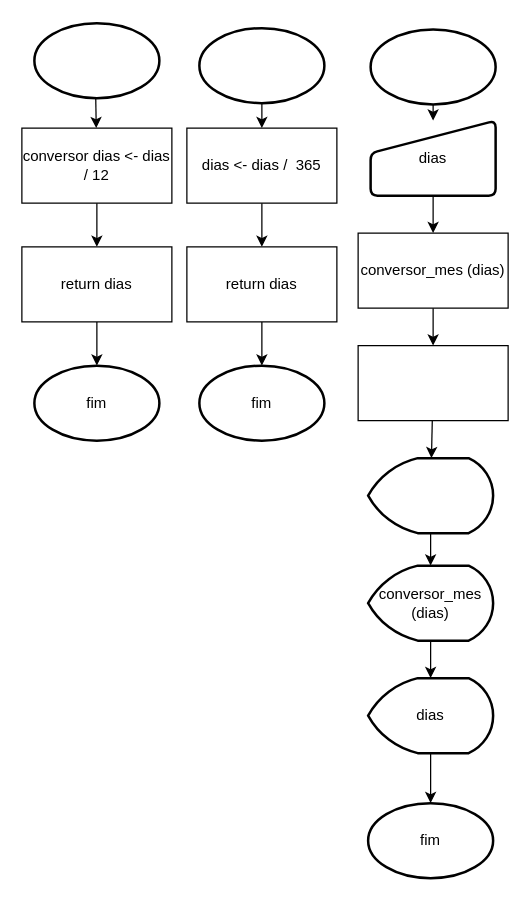
The diagram is 530 pixels wide and 900 high, and some of its shapes have lost their labels. Each missing label, with the centre of its shape:
"conversor_ano (dias : inteiro)" goes at point 261,65.
"conversor_ano (dias)" goes at point 430,495.
"conversor_ano(dias)" goes at point 432,382.
"conversor_mes (dias : inteiro)" goes at point 96,60.
"inicio" goes at point 432,66.
